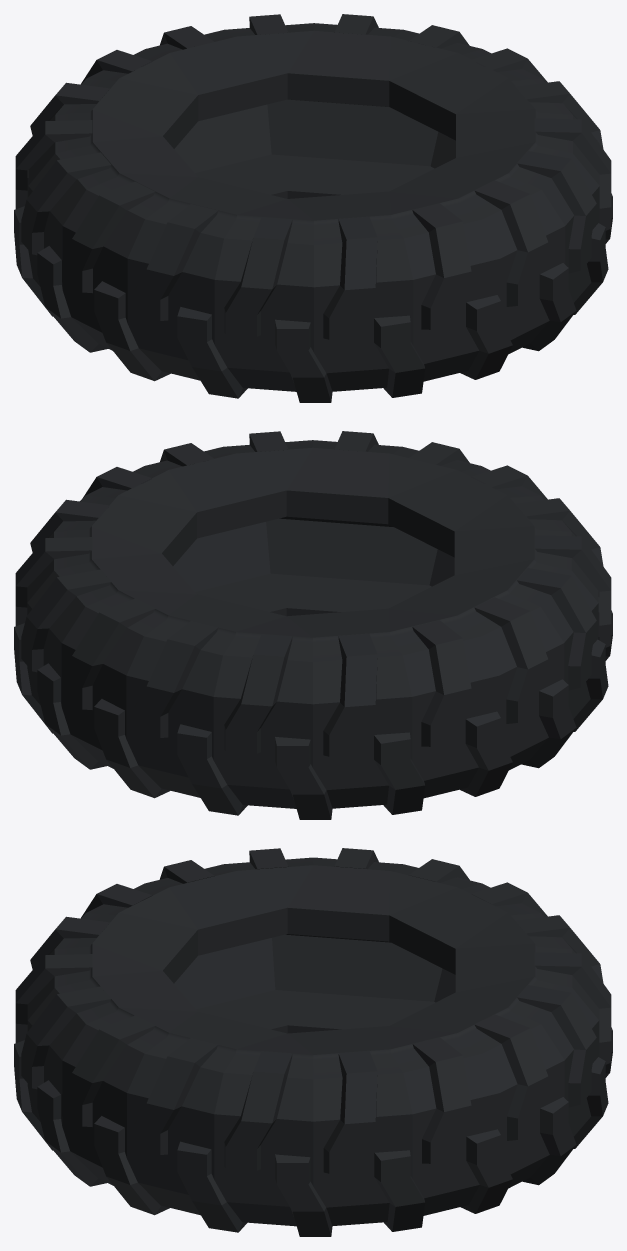
The model's file is SM_Prop_Tyre_01.glb.
3 views of the same model, one above another, from view 1: azimuth 30°, elevation 25°; view 2: azimuth 150°, elevation 25°; view 3: azimuth 270°, elevation 25° (orthographic).
Parts seen in each view (by area): view 1: SM_Prop_Tyre_01; view 2: SM_Prop_Tyre_01; view 3: SM_Prop_Tyre_01.
Boxes of the visible parts, bbox=[...] form: SM_Prop_Tyre_01: bbox=[14, 14, 612, 402]; SM_Prop_Tyre_01: bbox=[14, 431, 612, 819]; SM_Prop_Tyre_01: bbox=[14, 848, 612, 1236].
Size of the model in its own units: 1.72 by 0.525 by 1.72.
Materials: 1 (1 with a texture image).
